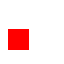square: (8, 29, 28, 49)
